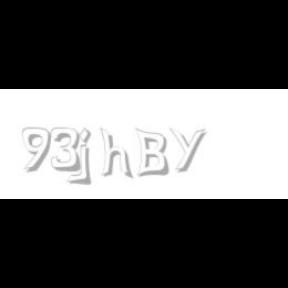3: (50, 128, 82, 172)
9: (22, 128, 51, 172)
B: (135, 128, 169, 178)
h: (100, 128, 134, 180)
j: (76, 128, 106, 186)
y: (169, 128, 209, 172)
